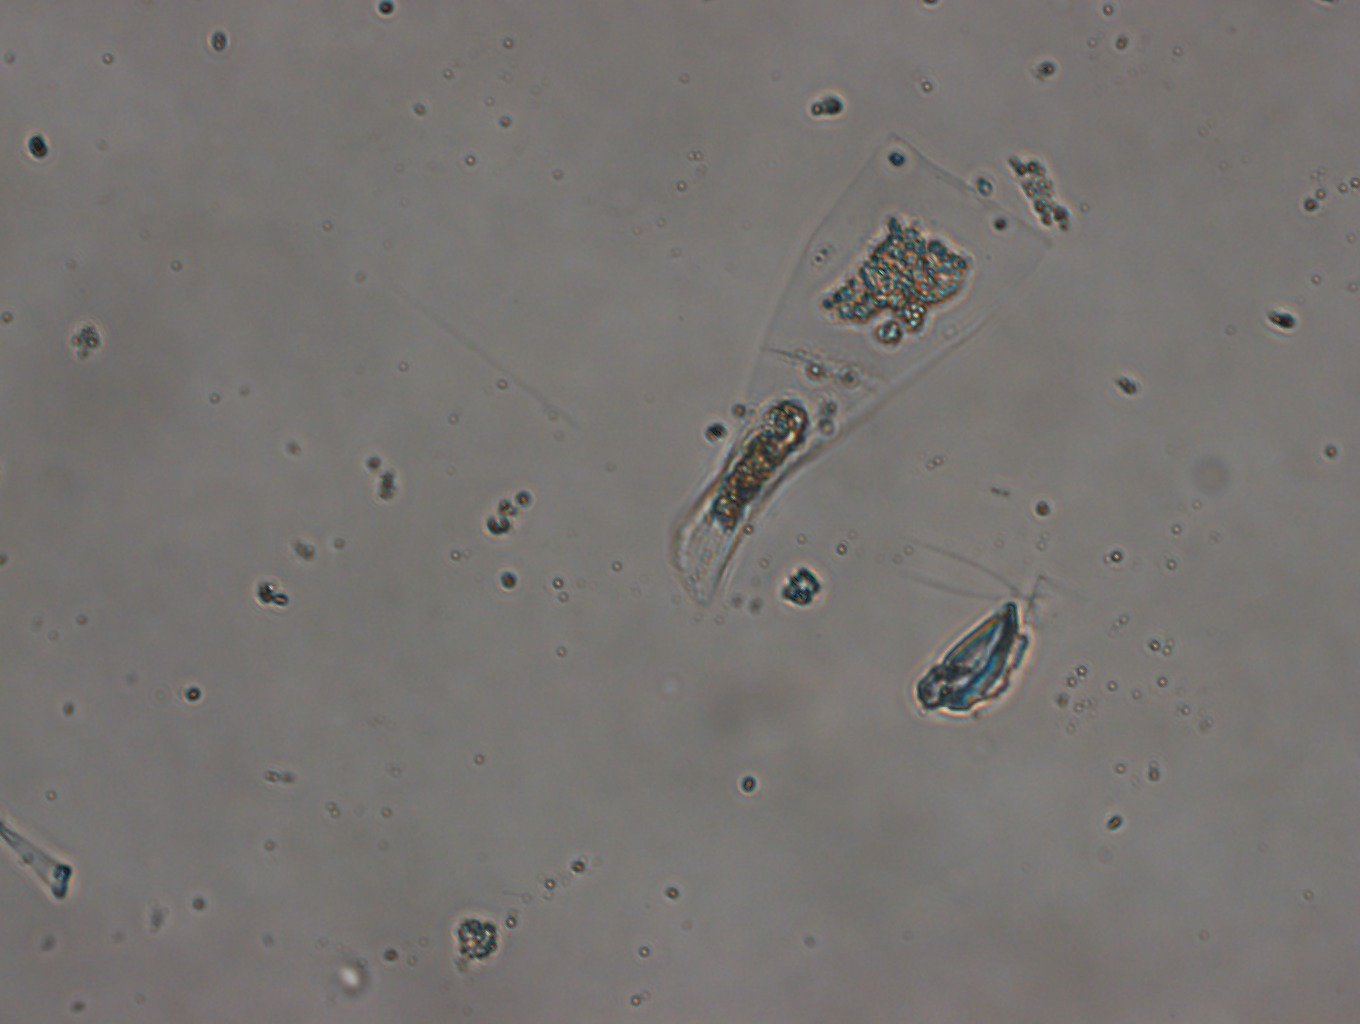helicotheca: (670, 134, 1050, 606)
